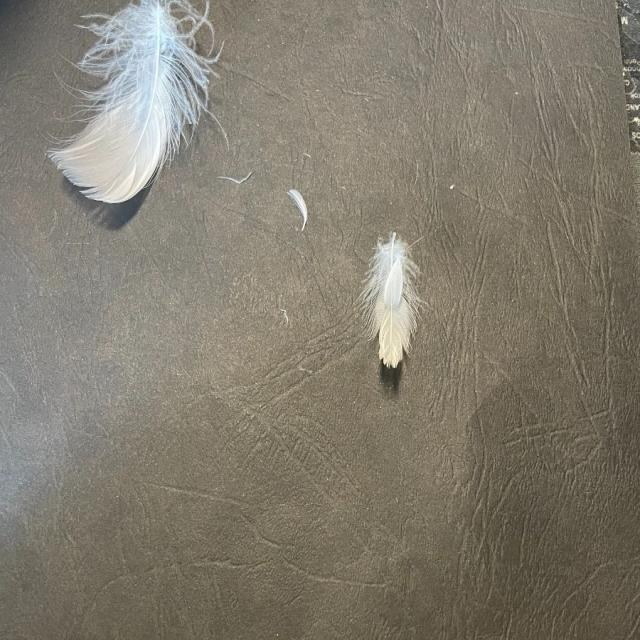feather: (46, 2, 227, 202), (360, 230, 422, 371), (285, 186, 309, 229)
